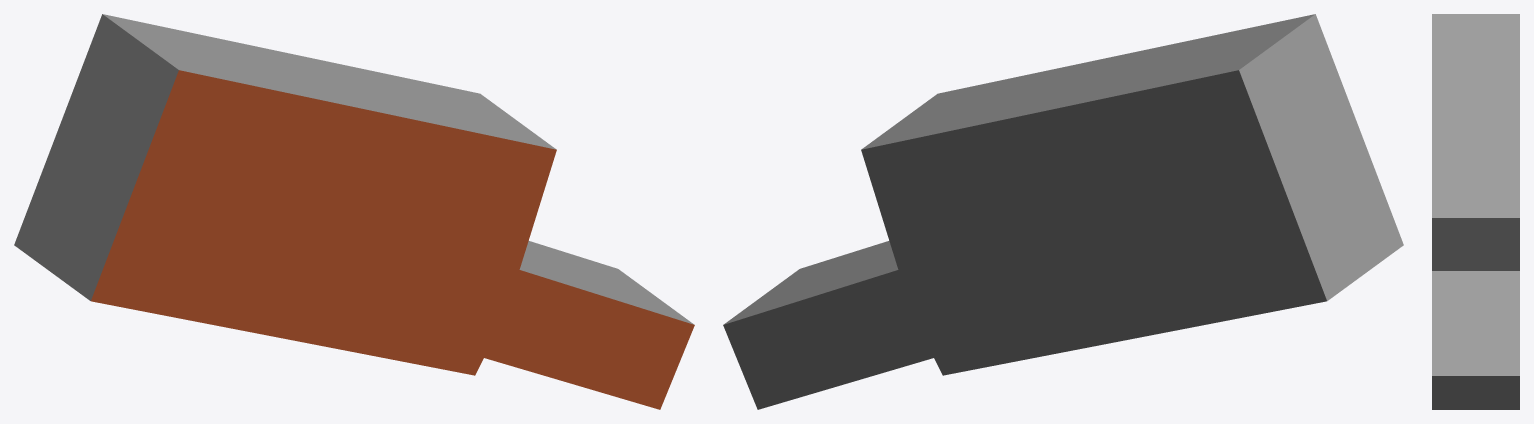
Rendered from construction_2788_assumed_A_Casa_h6m.obj.
3 views of the same model, side by side, from view 1: azimuth 30°, elevation 25°; view 2: azimuth 150°, elevation 25°; view 3: azimuth 270°, elevation 25° (orthographic). The views are drawn at different scales.
Visible parts, largest first — view 1: construction_2788_assumed_A_Casa; view 2: construction_2788_assumed_A_Casa; view 3: construction_2788_assumed_A_Casa.
Part boxes in pixels (x1=…): construction_2788_assumed_A_Casa: x1=14, y1=14, x2=694, y2=409; construction_2788_assumed_A_Casa: x1=723, y1=14, x2=1403, y2=409; construction_2788_assumed_A_Casa: x1=1432, y1=14, x2=1519, y2=409.
Size of the model in its own units: 27.3 by 19.74 by 6.
